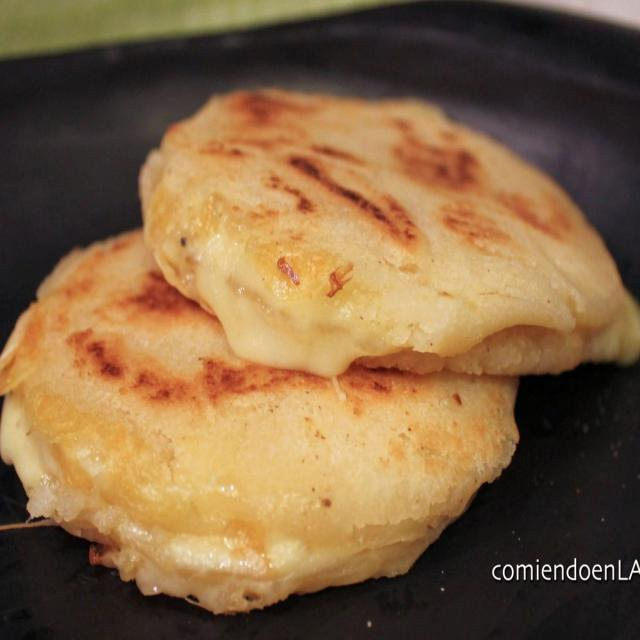arepa: (140, 71, 639, 397)
